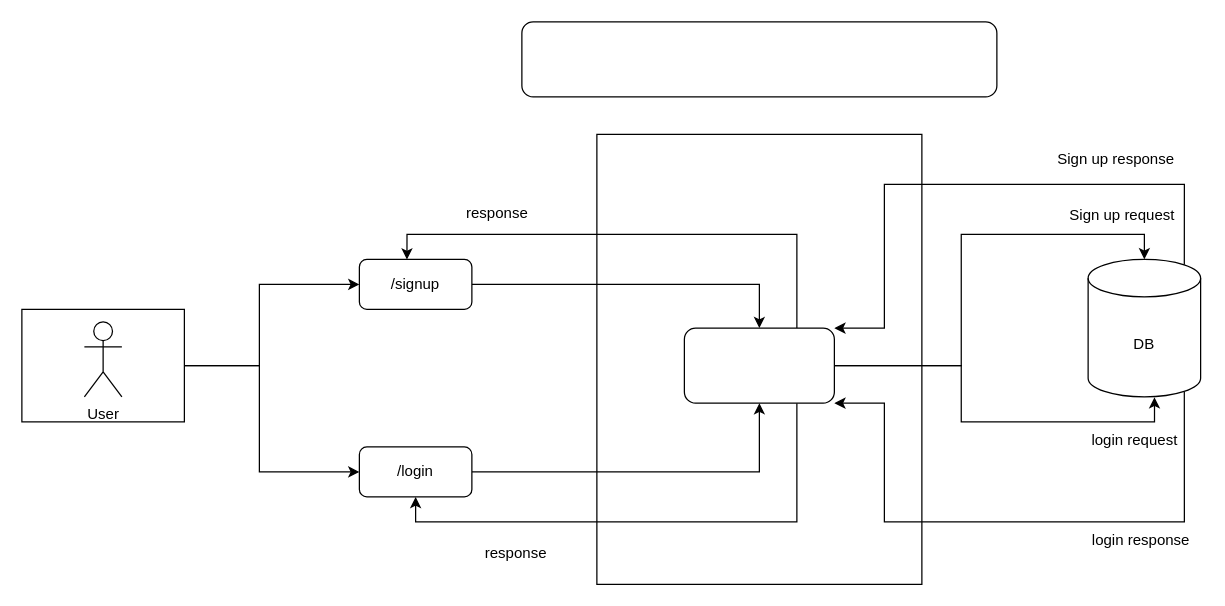
The diagram is 1225 pixels wide and 606 high, and some of its shapes have lost their labels. The centre of each missing label's shape, as x and y in pixels:
Auth Controller: (758,365)
Sample API Call: (759,59)
